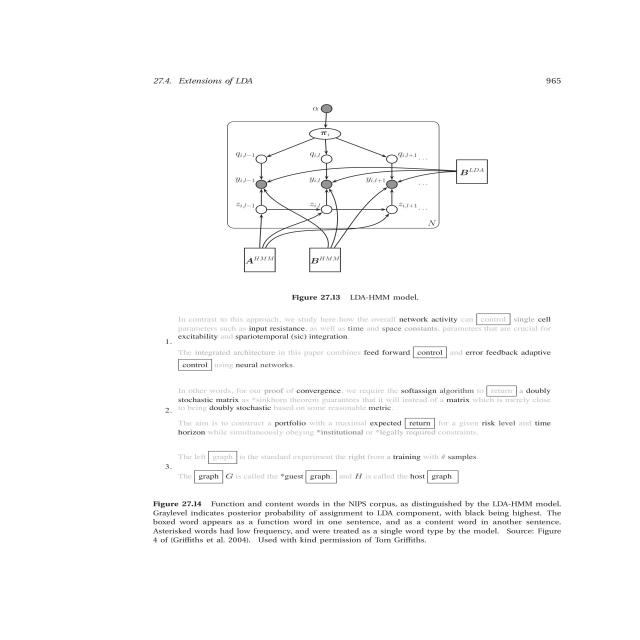diagram: (137, 90, 633, 310)
